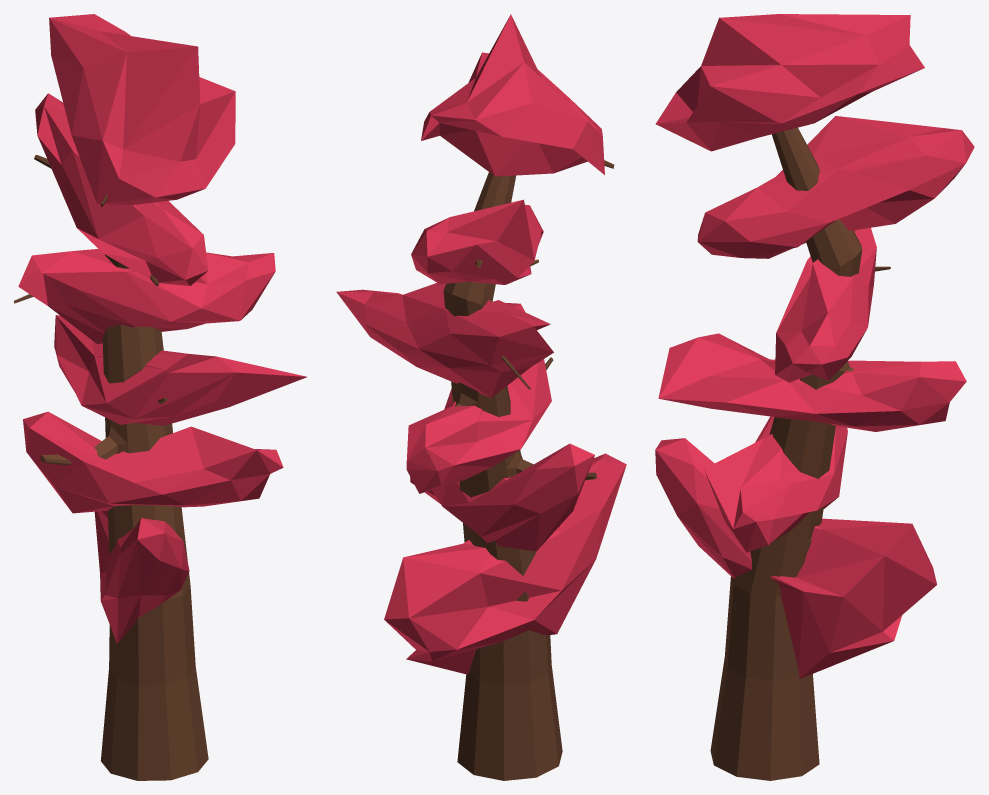
The model's file is Natures2t5-purple.fbx.
3 views of the same model, side by side, from view 1: azimuth 30°, elevation 25°; view 2: azimuth 150°, elevation 25°; view 3: azimuth 270°, elevation 25° (orthographic). The views are drawn at different scales.
Visible parts, largest first — view 1: t5-purple; view 2: t5-purple; view 3: t5-purple.
Boxes of the visible parts, left/top/right/bottom form: t5-purple: left=14, top=14, right=306, bottom=780; t5-purple: left=336, top=14, right=626, bottom=780; t5-purple: left=655, top=14, right=974, bottom=780.
Bounding box in the file's own units: 358 × 984 × 379.
